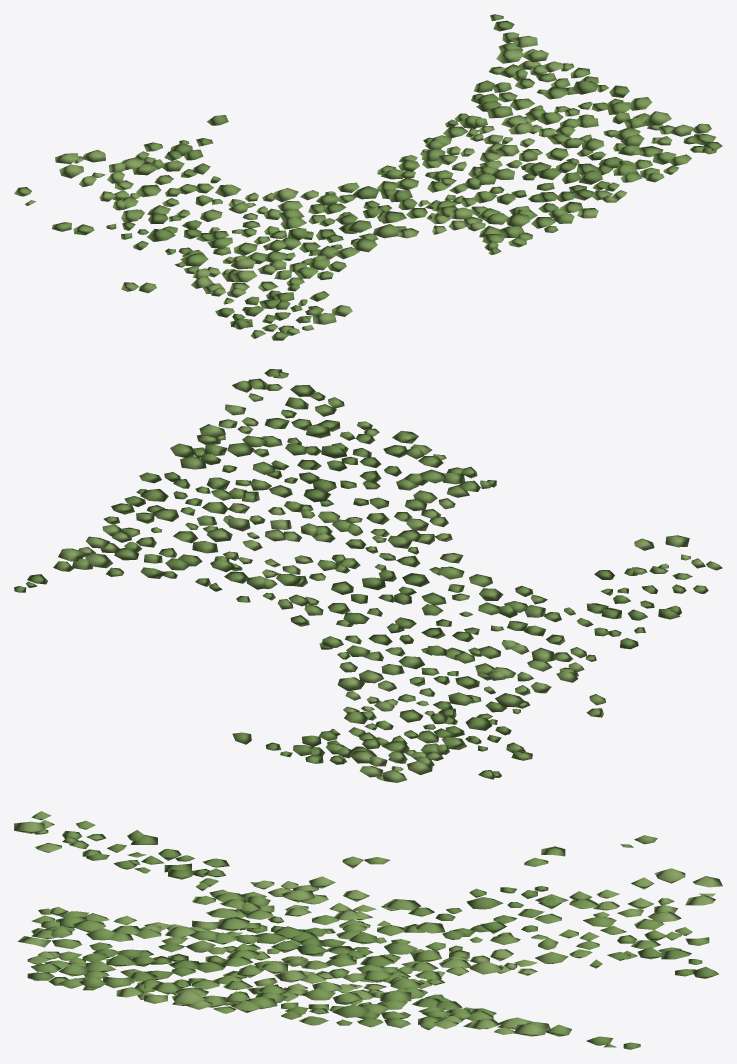
File: canopy-1-0--2.glb
3 renders of one model, top to bottom at view 1: azimuth 30°, elevation 25°; view 2: azimuth 150°, elevation 25°; view 3: azimuth 270°, elevation 25°, orthographic. The views are drawn at different scales.
Bounding box in the file's own units: 512 × 142 × 518.
1 material, 1 textured.
